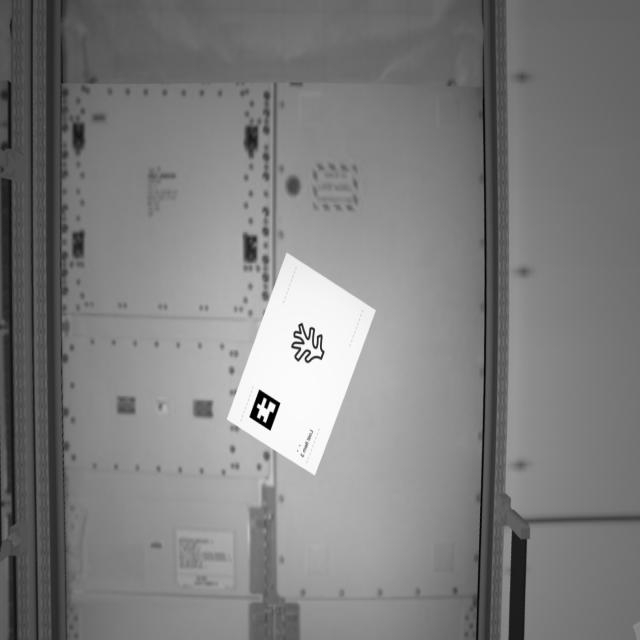coral: (292, 322, 328, 368)
